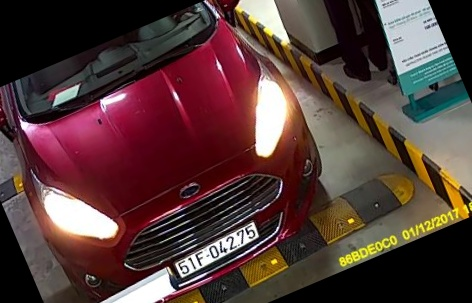plate: (169, 218, 265, 278)
